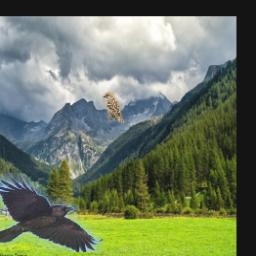Crow: (0, 174, 103, 253)
Sparrow: (104, 93, 126, 124)
